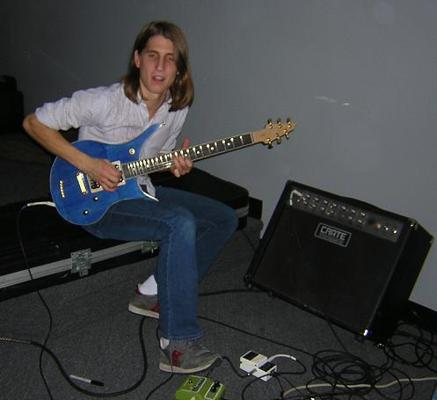person: (24, 21, 223, 375)
